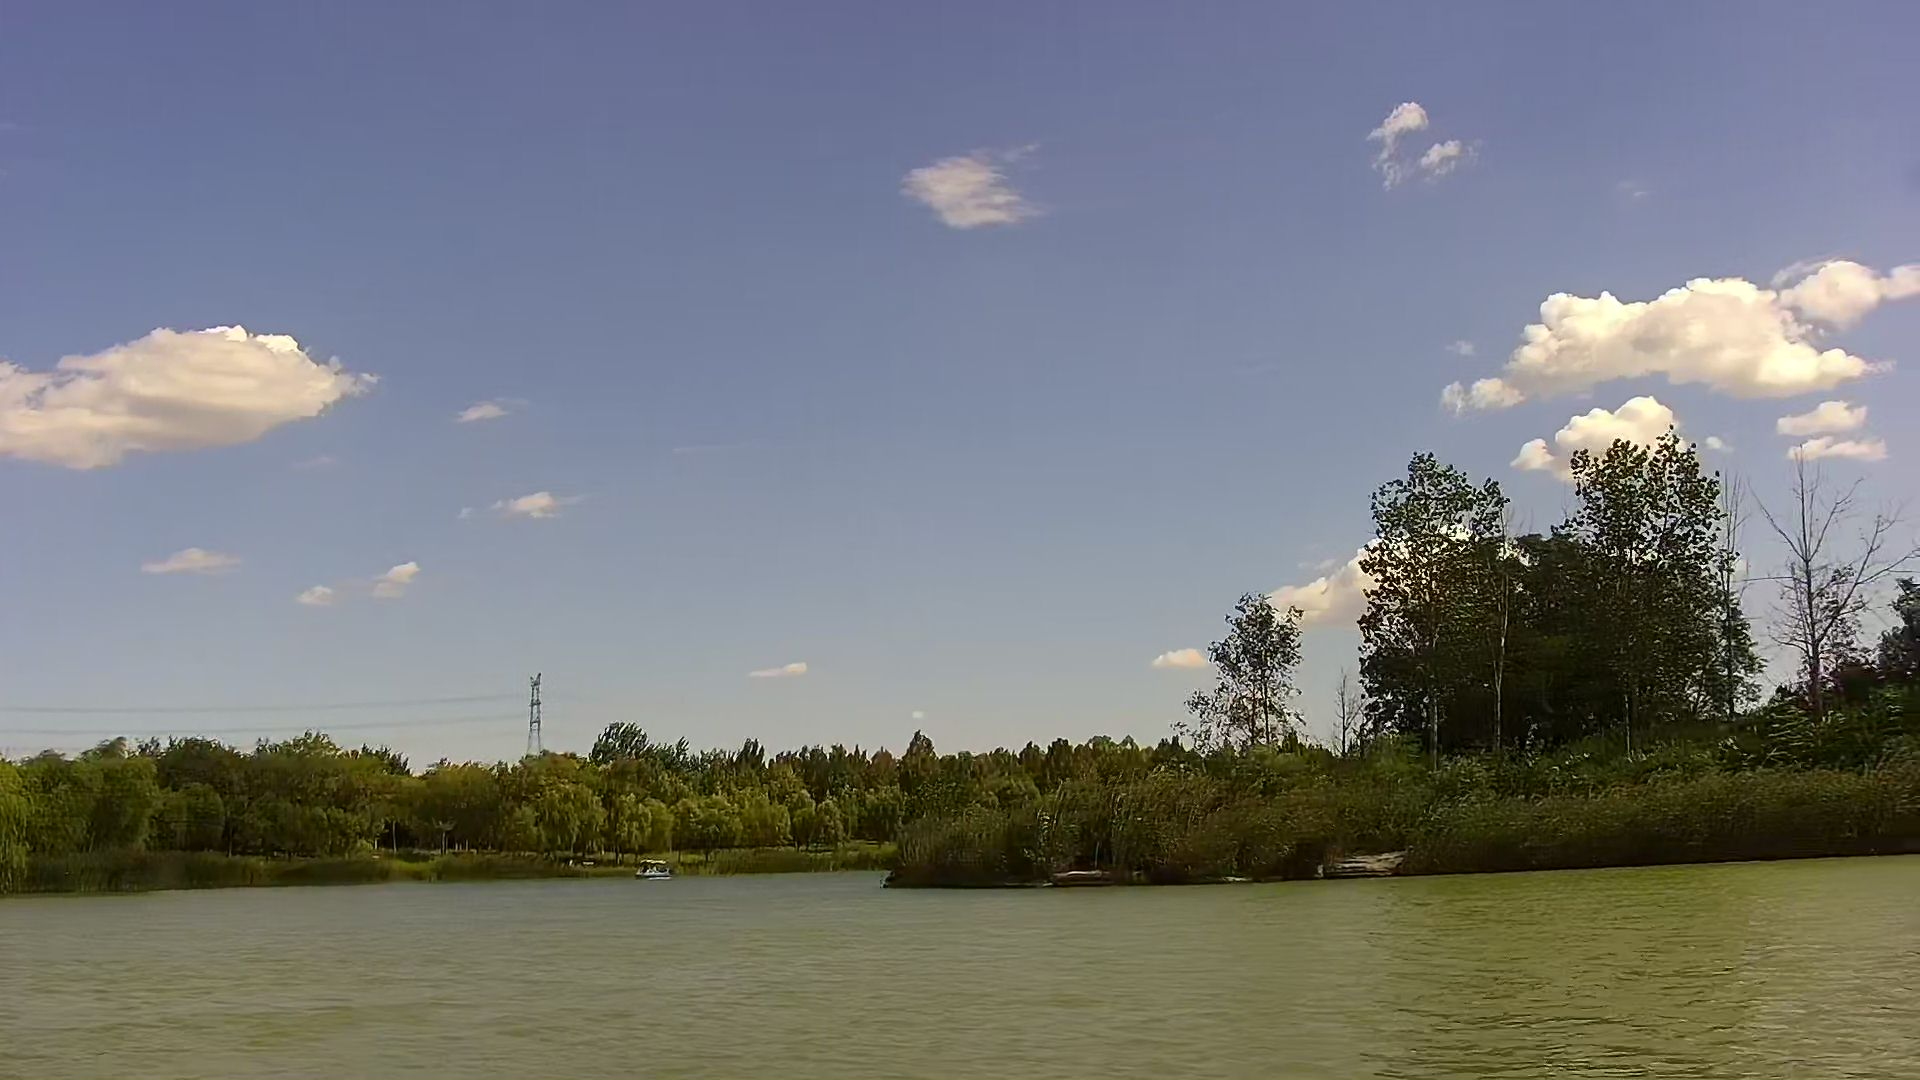boat: (636, 857, 666, 884)
rock: (1316, 843, 1402, 880), (1055, 866, 1135, 882)
